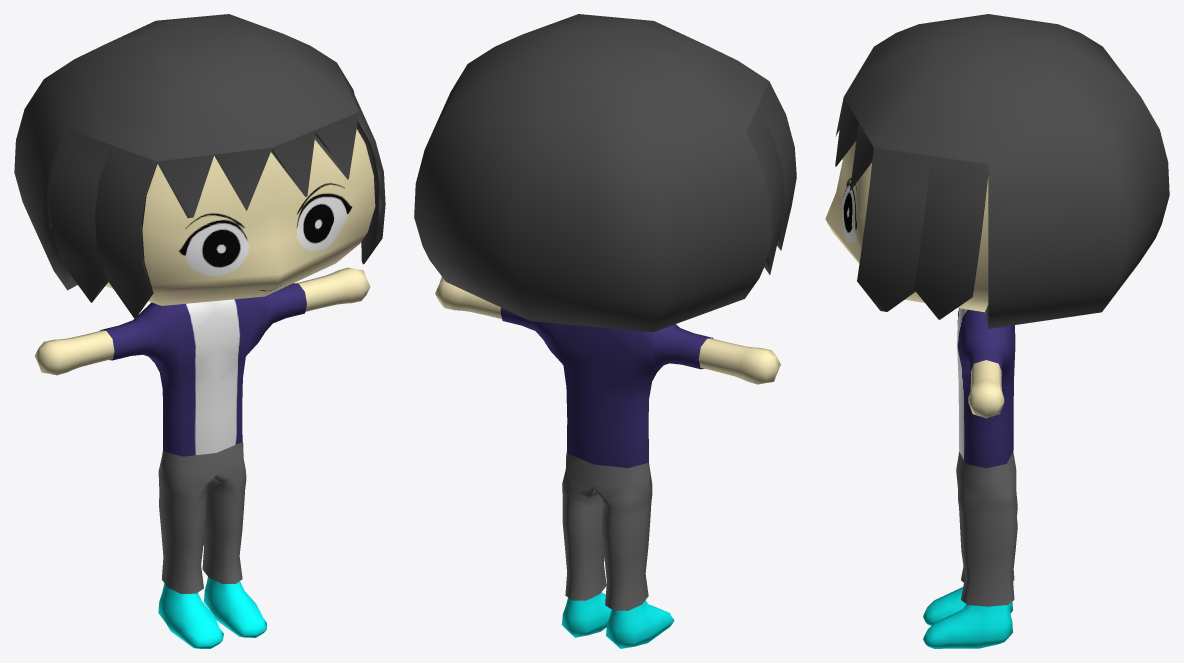
File: character_base.fbx
3 views of the same model, side by side, from view 1: azimuth 30°, elevation 25°; view 2: azimuth 150°, elevation 25°; view 3: azimuth 270°, elevation 25° (orthographic). The views are drawn at different scales.
Parts seen in each view (by area): view 1: pCubeShape1; view 2: pCubeShape1; view 3: pCubeShape1.
Boxes of the visible parts, x1=… form: pCubeShape1: x1=14, y1=14, x2=385, y2=648; pCubeShape1: x1=414, y1=14, x2=796, y2=648; pCubeShape1: x1=825, y1=14, x2=1169, y2=648.
Size of the model in its own units: 1.87 by 3.2 by 1.67.
